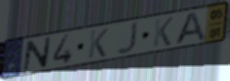4: (51, 33, 74, 66)
A: (173, 10, 209, 47)
J: (116, 20, 140, 55)
K: (87, 27, 110, 60), (152, 15, 175, 48)
N: (21, 36, 53, 73)
